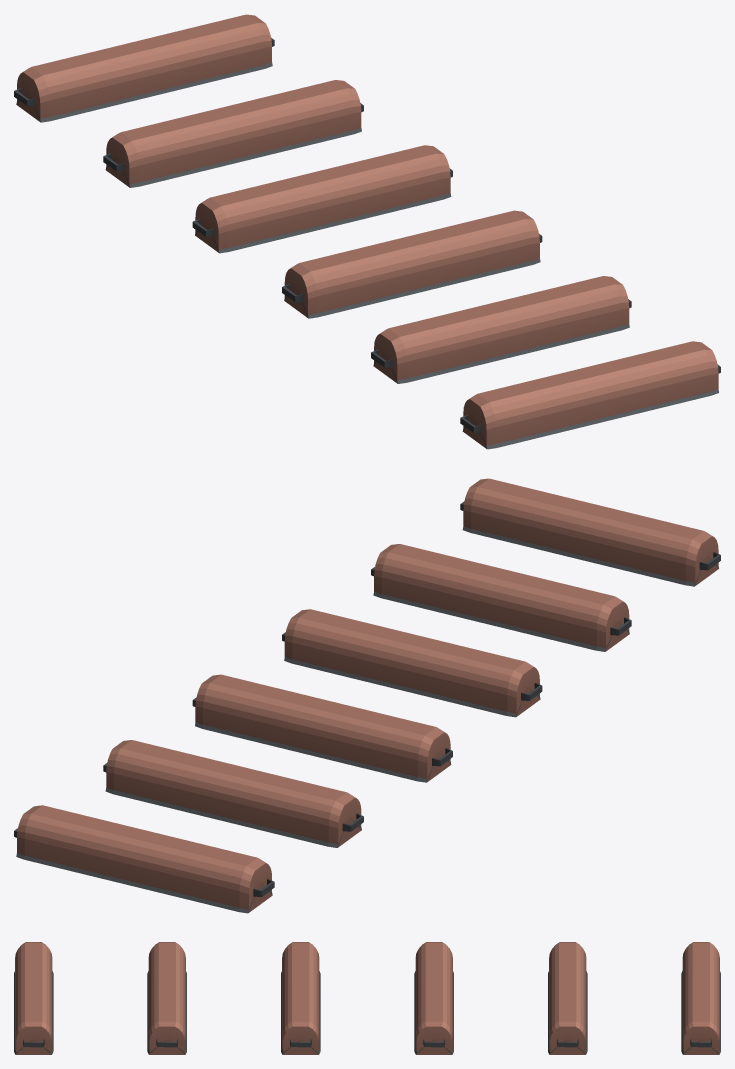
File: bags.glb
3 views of the same model, one above another, from view 1: azimuth 30°, elevation 25°; view 2: azimuth 150°, elevation 25°; view 3: azimuth 270°, elevation 25° (orthographic). The views are drawn at different scales.
Visible parts, largest first — view 1: bags; view 2: bags; view 3: bags.
Part boxes in pixels (left/top/right/bottom): bags: left=14, top=14, right=720, bottom=449; bags: left=14, top=478, right=720, bottom=913; bags: left=14, top=942, right=720, bottom=1054.
Bounding box in the file's own units: 1.6 × 0.25 × 5.3.
